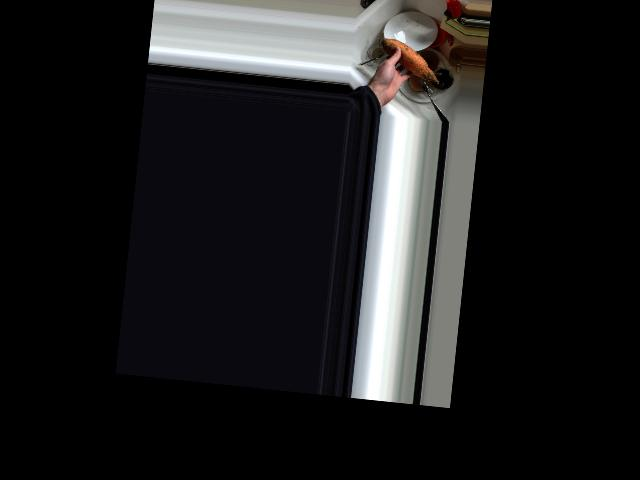sweet_potato: (377, 35, 441, 85)
